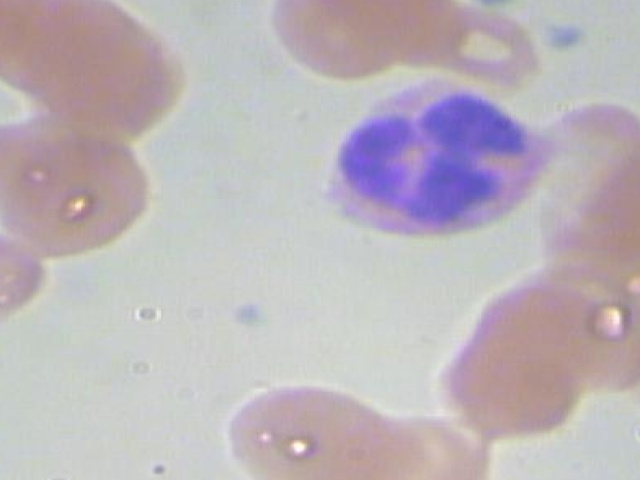Platelets: (529, 12, 600, 61), (456, 0, 529, 15)
RBC: (0, 124, 161, 260), (214, 378, 396, 480), (301, 0, 453, 44), (0, 223, 48, 357), (0, 0, 48, 85)
WBC: (289, 65, 569, 266)
